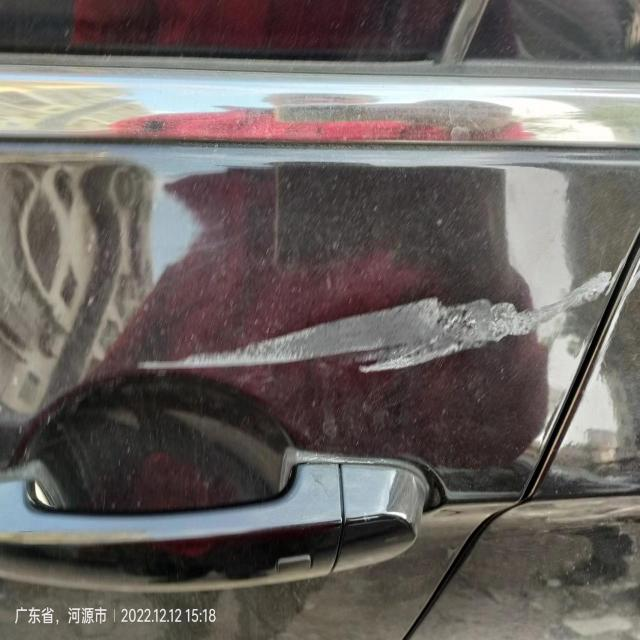Scratch: (136, 255, 611, 371)
